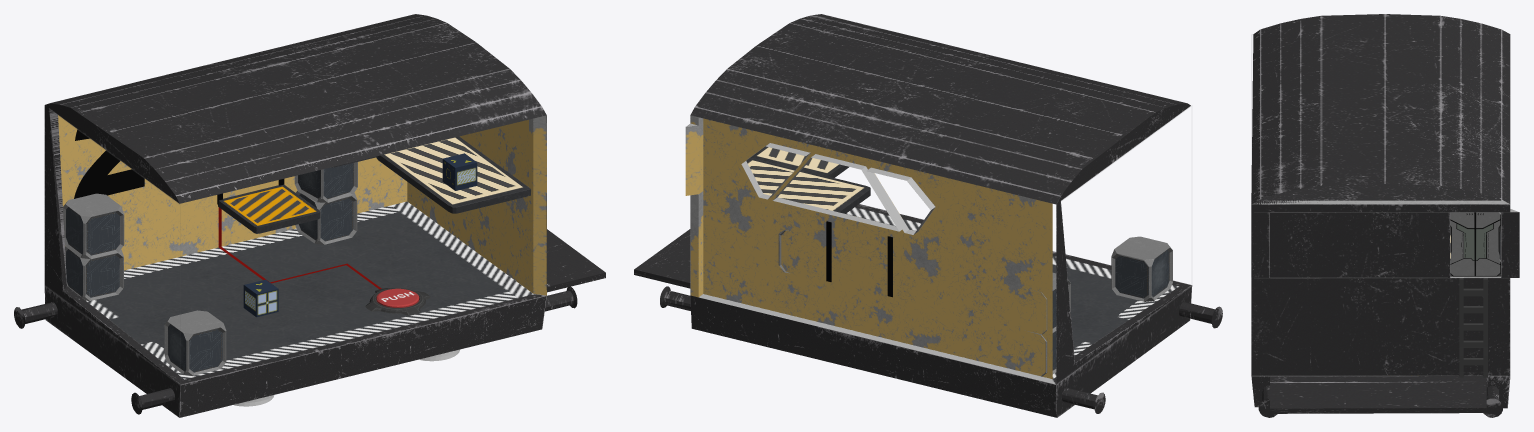
The model's file is level2.obj.
3 renders of one model, left to right at view 1: azimuth 30°, elevation 25°; view 2: azimuth 150°, elevation 25°; view 3: azimuth 270°, elevation 25°, orthographic. The views are drawn at different scales.
Visible parts, largest first — view 1: F_floor_1.008, R_roof_1.009, W_back_wall_1.009, W_right_wall_down_1.009, W_left_wall_1.009, Y_decoBox1_4.014, S_corner_platform_1.009, Y_decoBox1_4.018, Y_decoBox1_4.016, M_02_moving_platform_2, W_right_wall_left_1.009, X_Przejscie2.001 (+7 smaller); view 2: W_back_wall_1.009, R_roof_1.009, F_floor_1.008, W_left_wall_1.009, Y_decoBox1_4.016, S_corner_platform_1.008, X_Przejscie2.001, W_right_wall_down_1.009, W_right_wall_right_2.002, S_corner_platform_1.009, Y_decoBox1_4.014, X_railling_2.001; view 3: R_roof_1.009, W_right_wall_down_1.009, W_right_wall_left_1.009, X_Przejscie2.001, W_right_wall_up_1.009, X_Drabina2.001, F_floor_1.008, D_right_door_2.001, D_left_door_2.001, W_right_wall_right_2.002, W_right_wall_right_1.010.
Boxes of the visible parts, x1,y1,x2,y2 form: F_floor_1.008: (14, 201, 577, 417); R_roof_1.009: (50, 14, 546, 203); W_back_wall_1.009: (58, 115, 407, 270); W_right_wall_down_1.009: (407, 182, 546, 295); W_left_wall_1.009: (44, 103, 183, 384); Y_decoBox1_4.014: (63, 193, 124, 300); S_corner_platform_1.009: (376, 136, 530, 213); Y_decoBox1_4.018: (294, 162, 357, 244); Y_decoBox1_4.016: (164, 310, 226, 375); M_02_moving_platform_2: (218, 184, 320, 233); W_right_wall_left_1.009: (459, 119, 528, 187); X_Przejscie2.001: (547, 229, 605, 292); W_back_wall_1.009: (703, 118, 1052, 378); R_roof_1.009: (690, 14, 1186, 204); F_floor_1.008: (660, 204, 1222, 417); W_left_wall_1.009: (1056, 103, 1191, 384); Y_decoBox1_4.016: (1111, 236, 1172, 301); S_corner_platform_1.008: (746, 158, 870, 213); X_Przejscie2.001: (634, 229, 690, 288); W_right_wall_down_1.009: (690, 191, 703, 297); W_right_wall_right_2.002: (685, 122, 703, 195); S_corner_platform_1.009: (750, 146, 848, 177); Y_decoBox1_4.014: (1028, 272, 1070, 376); X_railling_2.001: (826, 221, 892, 297); R_roof_1.009: (1251, 14, 1510, 204); W_right_wall_down_1.009: (1251, 276, 1510, 375); W_right_wall_left_1.009: (1270, 212, 1450, 277); X_Przejscie2.001: (1270, 376, 1486, 413); W_right_wall_up_1.009: (1251, 200, 1510, 212); X_Drabina2.001: (1459, 278, 1487, 377); F_floor_1.008: (1251, 376, 1510, 417); D_right_door_2.001: (1450, 212, 1475, 276); D_left_door_2.001: (1475, 212, 1500, 276); W_right_wall_right_2.002: (1501, 209, 1519, 277); W_right_wall_right_1.010: (1251, 212, 1269, 277).
Size of the model in its own units: 14.32 by 7.33 by 7.45.
19 materials, 17 textured.
